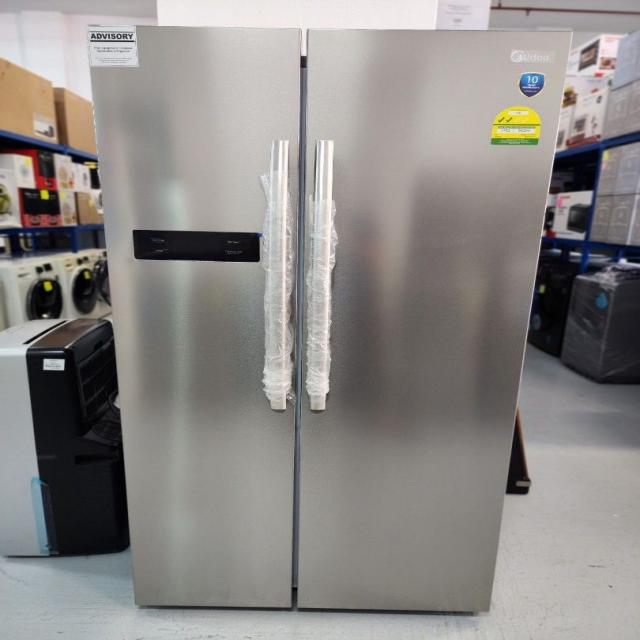refrigerator: (82, 19, 572, 616)
